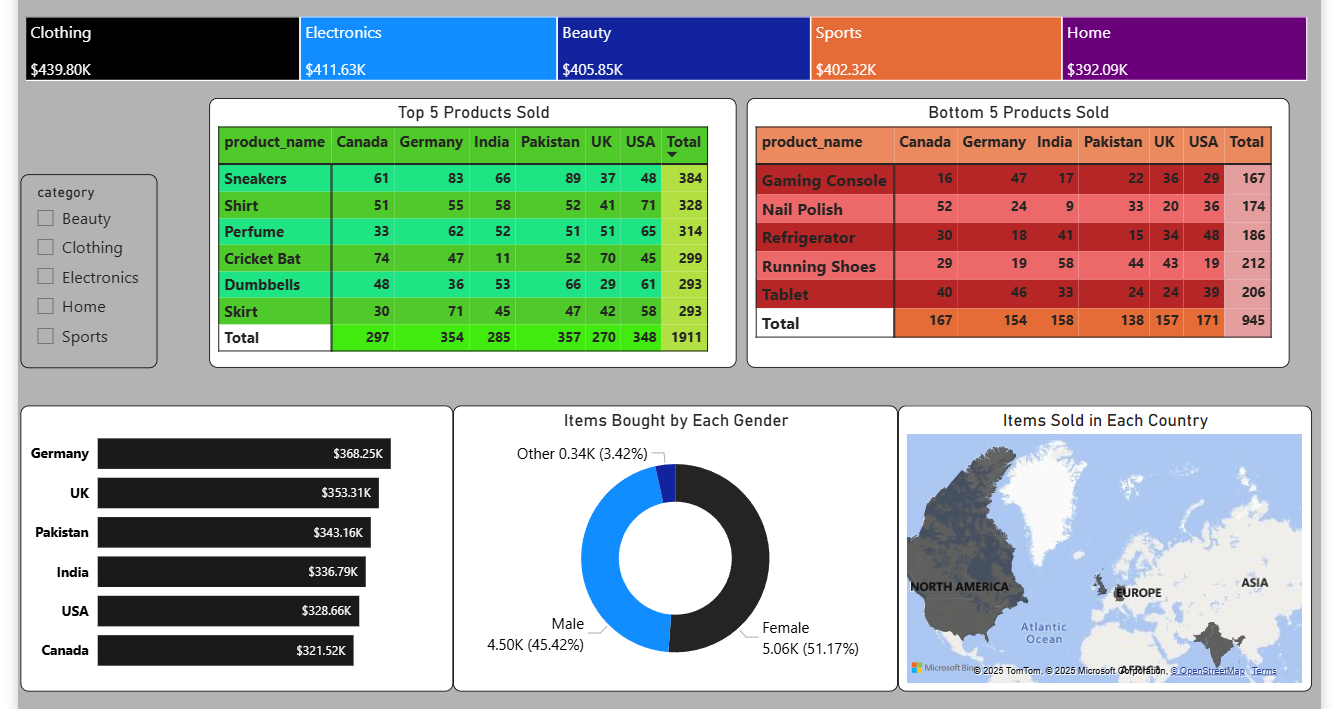

This screenshot's page, from the dashboard's own definition file:
{"tool":"powerbi","page":{"name":"Page 2","canvas":[1280,720],"ordinal":1},"visuals":[{"type":"donutChart","title":"Items Bought by Each Gender","fields":{"Category":["Ecommerce.gender"],"Y":["Sum(Ecommerce.quantity)"]},"box":[427,409.8,436.8,281],"z":0},{"type":"treemap","fields":{"Group":["Ecommerce.category"],"Values":["Sum(Ecommerce.Revenue)"]},"box":[2.7,23.3,1267.9,72.7],"z":1000},{"type":"pivotTable","title":"Top 5 Products Sold","fields":{"Rows":["Ecommerce.product_name"],"Values":["Sum(Ecommerce.quantity)"],"Columns":["Ecommerce.country"]},"box":[147.2,108,541.1,265],"z":2000},{"type":"slicer","fields":{"Values":["Ecommerce.category"]},"box":[2.7,182.5,134.5,190.7],"z":3000},{"type":"pivotTable","title":"Bottom 5 Products Sold","fields":{"Rows":["Ecommerce.product_name"],"Values":["Sum(Ecommerce.quantity)"],"Columns":["Ecommerce.country"]},"box":[705.5,108,542.3,265],"z":4000},{"type":"barChart","fields":{"Category":["Ecommerce.country"],"Y":["Sum(Ecommerce.Revenue)"]},"box":[2.5,409.8,424.5,281],"z":5000},{"type":"filledMap","title":"Items Sold in Each Country","fields":{"Category":["Ecommerce.country"]},"box":[863.8,409.8,406.1,281],"z":6000}]}

Visuals, with their boxes on the page's 1280x720 design canvas (x1, y1, x2, y2). These are canvas units, not pixel positions in the 1334x709 screenshot, which may show the page scaled, cropped or inside an application window:
"Items Bought by Each Gender" donutChart: bbox(427, 410, 864, 691)
treemap - Ecommerce.category x Sum(Ecommerce.Revenue): bbox(3, 23, 1271, 96)
"Top 5 Products Sold" pivotTable: bbox(147, 108, 688, 373)
slicer - Ecommerce.category: bbox(3, 182, 137, 373)
"Bottom 5 Products Sold" pivotTable: bbox(706, 108, 1248, 373)
barChart - Ecommerce.country x Sum(Ecommerce.Revenue): bbox(2, 410, 427, 691)
"Items Sold in Each Country" filledMap: bbox(864, 410, 1270, 691)
